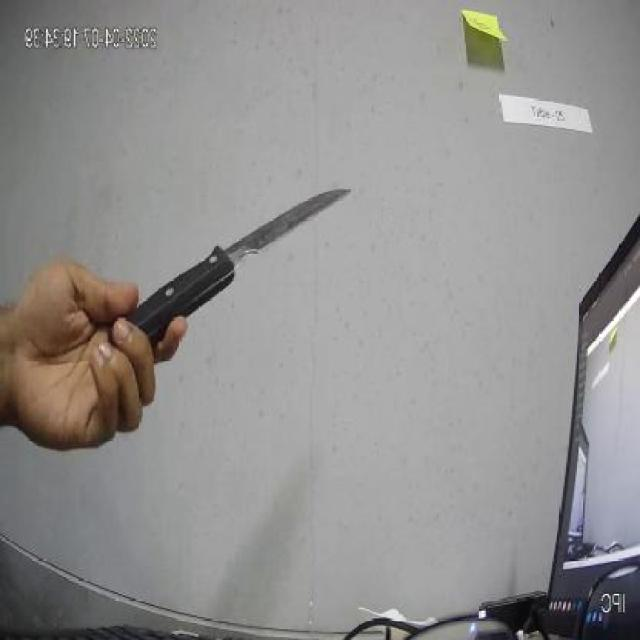knife: (129, 190, 354, 352)
